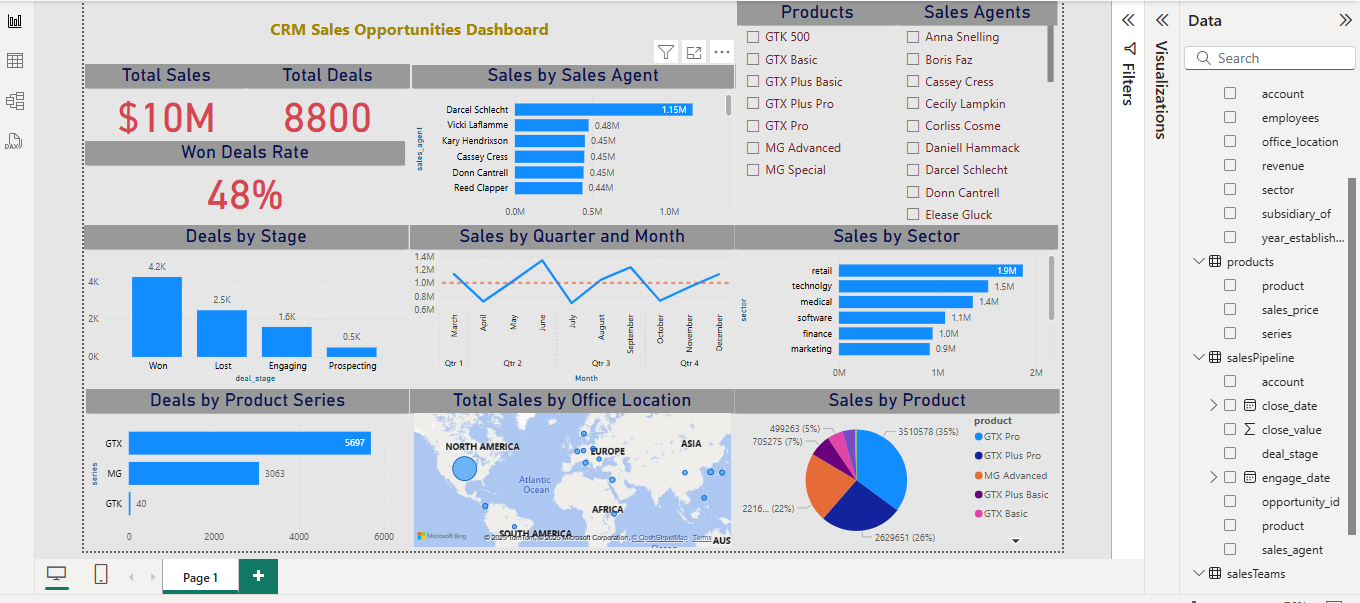

Layout of this report page (visuals, bound fields, positions):
{"tool":"powerbi","page":{"name":"Page 1","canvas":[1280,720],"ordinal":0},"visuals":[{"type":"card","title":"Total Sales","fields":{"Values":["Measuress.Total Sales"]},"box":[1.4,82.1,213.1,97.9],"z":0},{"type":"card","title":"Total Deals","fields":{"Values":["Measuress.Total Deals"]},"box":[210.2,82.1,216,97.9],"z":1000},{"type":"columnChart","title":"Deals by Stage","fields":{"Category":["salesPipeline.deal_stage"],"Y":["Measuress.column every unique value count"]},"box":[0,293.8,424.8,211.7],"z":2000},{"type":"pieChart","title":"Sales by Product","fields":{"Y":["salesPipeline.close_value"],"Category":["products.product"]},"box":[852.5,508.3,424.8,211.7],"z":3000},{"type":"textbox","box":[1.4,0,849.6,82.1],"z":4000},{"type":"barChart","title":"Sales by Sales Agent","fields":{"Category":["salesPipeline.sales_agent"],"Y":["salesPipeline.close_value"]},"box":[427.7,82.1,424.8,211.7],"z":5000},{"type":"lineChart","title":"Sales by Quarter and Month","fields":{"Category":["salesPipeline.close_date.Variation.Date Hierarchy.Quarter","salesPipeline.close_date.Variation.Date Hierarchy.Month"],"Y":["salesPipeline.close_value"]},"box":[426.2,293.8,424.8,211.7],"z":6000},{"type":"map","title":"Total Sales by Office Location","fields":{"Category":["accounts.office_location"],"Size":["salesPipeline.close_value"]},"box":[426.2,508.3,424.8,211.7],"z":7000},{"type":"card","title":" Won Deals Rate","fields":{"Values":["Measuress.Won Rate"]},"box":[1.4,182.9,419,97.9],"z":8000},{"type":"barChart","title":"Sales by Sector","fields":{"Category":["accounts.sector"],"Y":["salesPipeline.close_value"]},"box":[852.5,293.8,423.4,211.7],"z":9000},{"type":"barChart","title":"Deals by Product Series","fields":{"Y":["Measuress.column every unique value count"],"Category":["products.series"]},"box":[2.9,508.3,423.4,211.7],"z":10000},{"type":"slicer","title":"Products","fields":{"Values":["salesPipeline.product"]},"box":[855.4,0,210.2,280.8],"z":11000},{"type":"slicer","title":"Sales Agents","fields":{"Values":["salesPipeline.sales_agent"]},"box":[1064.2,0,210.2,292.3],"z":12000}]}

Visuals, with their boxes on the page's 1280x720 design canvas (x1, y1, x2, y2). These are canvas units, not pixel positions in the 1360x603 screenshot, which may show the page scaled, cropped or inside an application window:
"Total Sales" card: region(1, 82, 214, 180)
"Total Deals" card: region(210, 82, 426, 180)
"Deals by Stage" columnChart: region(0, 294, 425, 506)
"Sales by Product" pieChart: region(852, 508, 1277, 720)
textbox: region(1, 0, 851, 82)
"Sales by Sales Agent" barChart: region(428, 82, 852, 294)
"Sales by Quarter and Month" lineChart: region(426, 294, 851, 506)
"Total Sales by Office Location" map: region(426, 508, 851, 720)
" Won Deals Rate" card: region(1, 183, 420, 281)
"Sales by Sector" barChart: region(852, 294, 1276, 506)
"Deals by Product Series" barChart: region(3, 508, 426, 720)
"Products" slicer: region(855, 0, 1066, 281)
"Sales Agents" slicer: region(1064, 0, 1274, 292)
